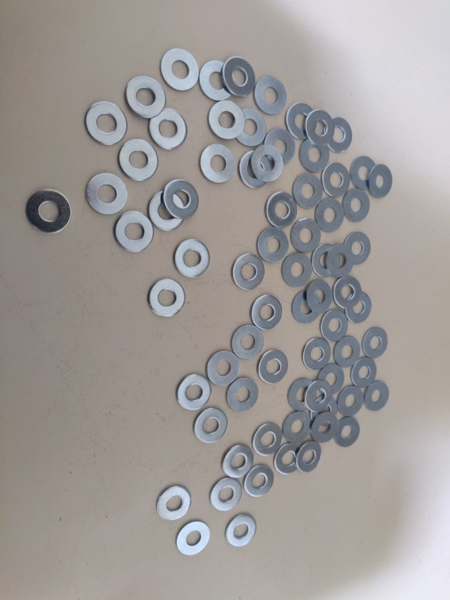circle: (25, 189, 71, 234), (85, 103, 127, 146), (114, 211, 155, 254), (86, 173, 127, 215), (125, 77, 167, 118), (161, 49, 200, 92), (120, 139, 158, 182), (149, 108, 187, 150), (147, 278, 186, 318), (208, 99, 245, 139), (164, 180, 200, 221), (200, 61, 236, 101), (221, 56, 255, 98), (149, 192, 185, 231), (175, 239, 210, 279), (238, 150, 273, 190), (200, 145, 236, 183), (230, 324, 265, 361), (232, 254, 266, 292), (156, 486, 192, 521), (251, 145, 284, 183), (265, 192, 298, 230), (177, 375, 212, 410), (193, 408, 228, 443), (233, 111, 267, 147), (206, 351, 240, 387), (225, 377, 259, 413), (256, 228, 289, 265), (255, 77, 287, 115), (251, 294, 283, 332), (286, 103, 317, 142), (292, 173, 324, 210), (176, 522, 210, 556), (257, 350, 290, 385), (211, 477, 243, 512), (287, 379, 319, 414), (264, 130, 295, 166), (281, 252, 312, 288), (222, 445, 254, 479), (299, 138, 330, 173), (314, 199, 345, 234), (321, 164, 352, 198), (226, 513, 257, 547), (301, 338, 332, 372), (244, 463, 274, 498), (341, 231, 371, 266), (292, 290, 322, 325), (307, 396, 339, 428), (282, 411, 313, 444), (319, 309, 349, 343), (305, 111, 334, 146), (324, 117, 353, 152), (342, 188, 371, 223), (315, 364, 346, 396), (253, 423, 283, 456), (303, 380, 333, 413), (312, 243, 340, 278), (350, 156, 378, 190), (305, 279, 333, 313), (310, 413, 340, 444), (335, 386, 364, 418), (327, 244, 354, 278), (334, 275, 361, 309), (333, 336, 361, 368), (274, 444, 302, 476), (295, 443, 323, 474), (345, 291, 372, 323), (333, 417, 360, 448), (368, 165, 393, 198), (361, 328, 388, 358), (363, 382, 390, 412), (351, 358, 377, 388)
